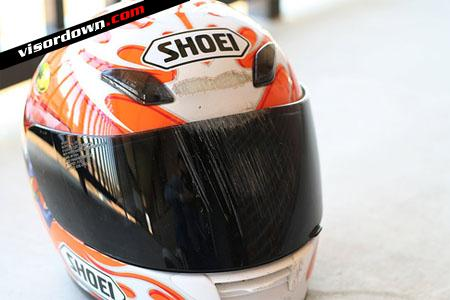helmet: (26, 17, 328, 300)
